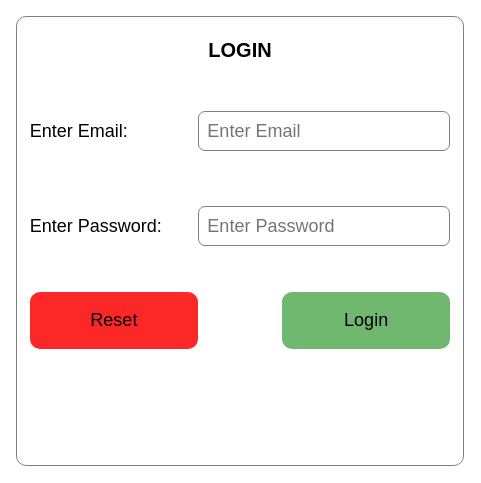
Login Component › should show error message for invalid input
The width and height of the screenshot is (481, 483).
What coordinates should you click on to do the following:
click the button "Login"
I would click on:
 (366, 320)
Its box is [282,292,450,349].
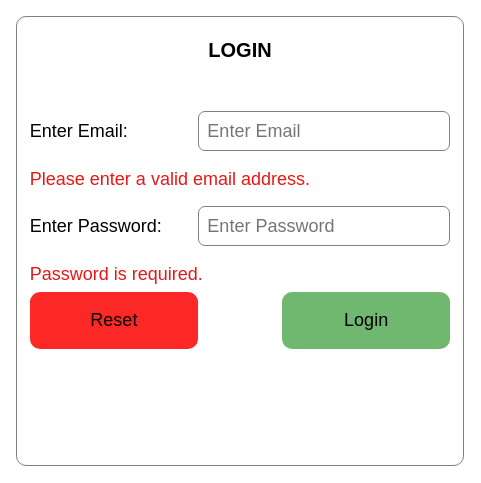
Now the text "Please enter a valid email address." is shown, box [30,169,310,189]
Now the text "Password is required." is shown, box [30,264,203,284]
